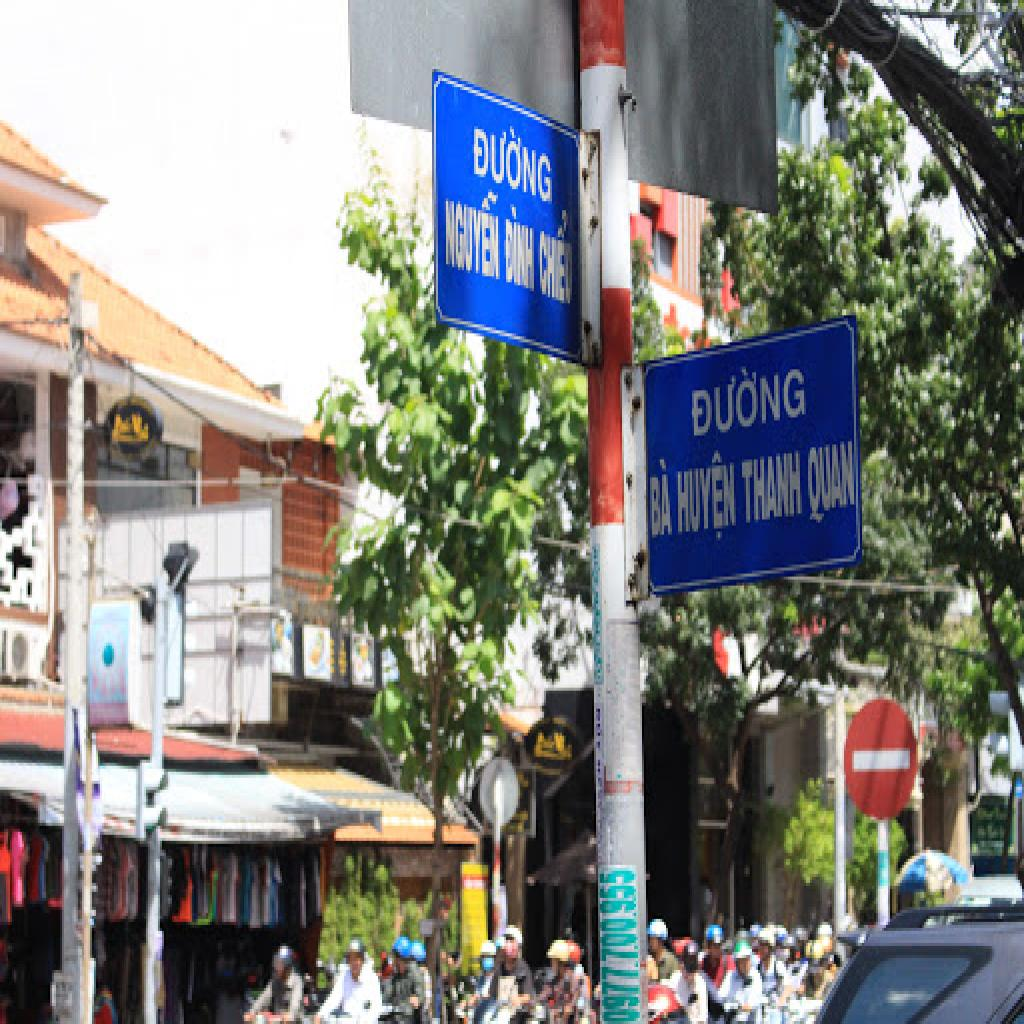text: (688, 348, 812, 442), (472, 111, 558, 213), (674, 442, 740, 550), (442, 177, 504, 288), (598, 868, 642, 1024), (740, 448, 806, 532), (538, 208, 578, 316), (504, 198, 538, 297), (648, 454, 676, 544)
